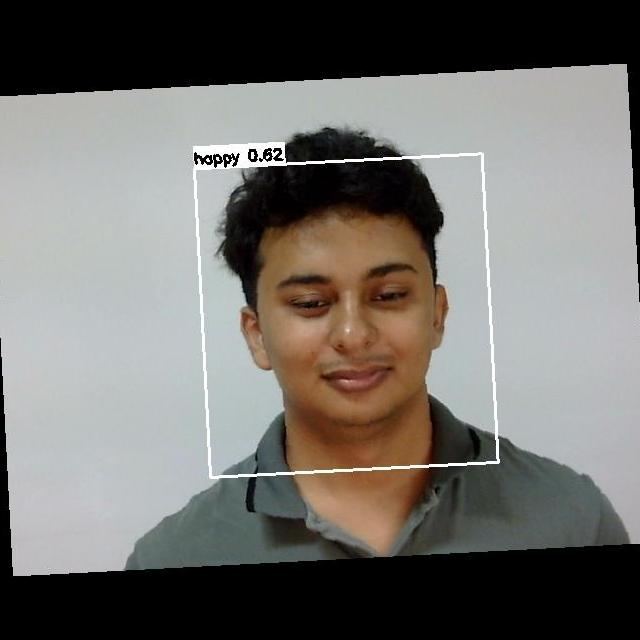Happy: (257, 243, 442, 411)
